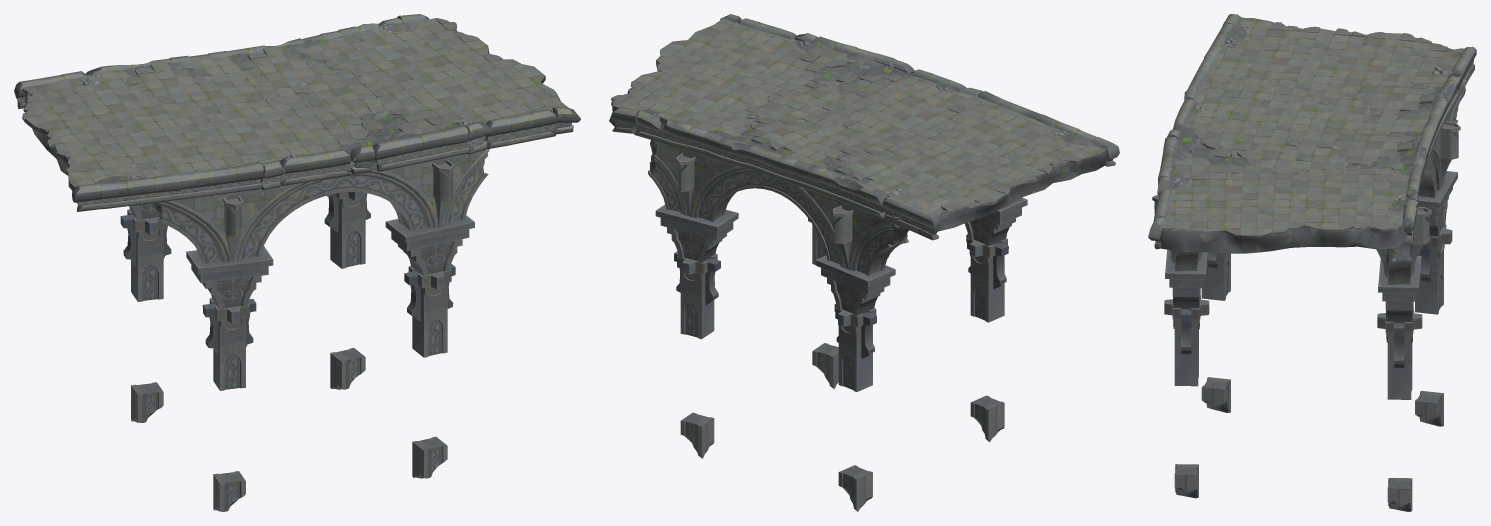
The model's file is SkillObj_Monster_Dvalin_Platform_01.fbx.
The picture shows the model from 3 angles, left to right: view 1: azimuth 30°, elevation 25°; view 2: azimuth 150°, elevation 25°; view 3: azimuth 270°, elevation 25°; orthographic projection. The views are drawn at different scales.
Parts seen in each view (by area): view 1: Area_MdBuild_SdBridge13_Lod0.001, Area_MdBuild_SdArch06_04_Lod0.001, Area_MdBuild_SdArch06_02_Lod0.001, Area_MdProps_SdPillar02_02_Lod0.002, Area_MdProps_SdPillar02_02_Lod0.003, Area_MdProps_SdPillar02_02_Lod0.001, Area_MdBuild_SdRuins07_07_Lod0, Area_MdProps_SdPillar02_03_Lod0.002, Area_MdProps_SdPillar02_03_Lod0.003, Area_MdBuild_SdWall01_08_Lod0, Area_MdProps_SdPillar02_02_Lod0, Area_MdBuild_SdWall01_08_Lod0.001 (+9 smaller); view 2: Area_MdBuild_SdBridge13_Lod0.001, Area_MdBuild_SdArch06_04_Lod0, Area_MdProps_SdPillar02_02_Lod0, Area_MdProps_SdPillar02_02_Lod0.001, Area_MdProps_SdPillar02_02_Lod0.003, Area_MdBuild_SdArch06_02_Lod0, Area_MdProps_SdPillar02_03_Lod0, Area_MdBuild_SdRuins07_07_Lod0, Area_MdProps_SdPillar02_03_Lod0.001, Area_MdBuild_SdWall01_08_Lod0, Area_MdBuild_SdWall01_08_Lod0.001, Area_MdBuild_SdArch06_01_Lod0 (+9 smaller); view 3: Area_MdBuild_SdBridge13_Lod0.001, Area_MdBuild_SdRuins07_07_Lod0, Area_MdProps_SdPillar02_02_Lod0, Area_MdBuild_SdWall01_08_Lod0, Area_MdProps_SdPillar02_02_Lod0.002, Area_MdBuild_SdWall01_08_Lod0.001, Area_MdProps_SdPillar02_02_Lod0.001, Area_MdProps_SdPillar02_03_Lod0, Area_MdProps_SdPillar02_03_Lod0.002, Area_MdProps_SdPillar02_02_Lod0.003, Area_MdBuild_SdArch06_01_Lod0, Area_MdProps_SdPillar02_03_Lod0.001 (+10 smaller).
Part boxes in pixels (x1,y1,x2,y2): Area_MdBuild_SdBridge13_Lod0.001: (14,14,580,211); Area_MdBuild_SdArch06_04_Lod0.001: (231,159,442,261); Area_MdBuild_SdArch06_02_Lod0.001: (151,192,235,263); Area_MdProps_SdPillar02_02_Lod0.002: (404,263,455,357); Area_MdProps_SdPillar02_02_Lod0.003: (202,298,256,390); Area_MdProps_SdPillar02_02_Lod0.001: (120,209,171,301); Area_MdBuild_SdRuins07_07_Lod0: (298,63,385,120); Area_MdProps_SdPillar02_03_Lod0.002: (385,215,474,276); Area_MdProps_SdPillar02_03_Lod0.003: (186,246,273,309); Area_MdBuild_SdWall01_08_Lod0: (237,46,330,105); Area_MdProps_SdPillar02_02_Lod0: (324,192,370,268); Area_MdBuild_SdWall01_08_Lod0.001: (125,61,217,121); Area_MdBuild_SdBridge13_Lod0.001: (609,14,1119,240); Area_MdBuild_SdArch06_04_Lod0: (688,150,847,273); Area_MdProps_SdPillar02_02_Lod0: (674,251,720,339); Area_MdProps_SdPillar02_02_Lod0.001: (834,304,876,391); Area_MdProps_SdPillar02_02_Lod0.003: (966,234,1008,322); Area_MdBuild_SdArch06_02_Lod0: (847,204,909,275); Area_MdProps_SdPillar02_03_Lod0: (655,204,738,262); Area_MdBuild_SdRuins07_07_Lod0: (743,81,847,127); Area_MdProps_SdPillar02_03_Lod0.001: (815,255,895,315); Area_MdBuild_SdWall01_08_Lod0: (748,117,856,151); Area_MdBuild_SdWall01_08_Lod0.001: (832,148,942,181); Area_MdBuild_SdArch06_01_Lod0: (648,140,688,215); Area_MdBuild_SdBridge13_Lod0.001: (1148,14,1476,253); Area_MdBuild_SdRuins07_07_Lod0: (1237,139,1375,175); Area_MdProps_SdPillar02_02_Lod0: (1377,309,1422,399); Area_MdBuild_SdWall01_08_Lod0: (1310,125,1414,164); Area_MdProps_SdPillar02_02_Lod0.002: (1164,296,1209,386); Area_MdBuild_SdWall01_08_Lod0.001: (1332,77,1436,116); Area_MdProps_SdPillar02_02_Lod0.001: (1415,225,1452,314); Area_MdProps_SdPillar02_03_Lod0: (1378,256,1421,322); Area_MdProps_SdPillar02_03_Lod0.002: (1165,249,1207,308); Area_MdProps_SdPillar02_02_Lod0.003: (1201,252,1230,300); Area_MdBuild_SdArch06_01_Lod0: (1384,235,1414,284); Area_MdProps_SdPillar02_03_Lod0.001: (1418,171,1457,236).
Size of the model in its own units: 43.44 by 31.25 by 27.2.
Materials: 14 (14 with a texture image).
